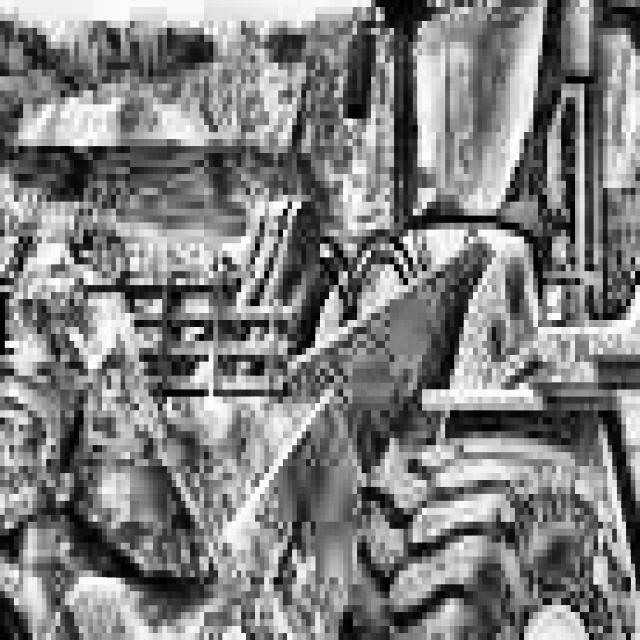buldozerpayloadergrader: (250, 0, 640, 640)
